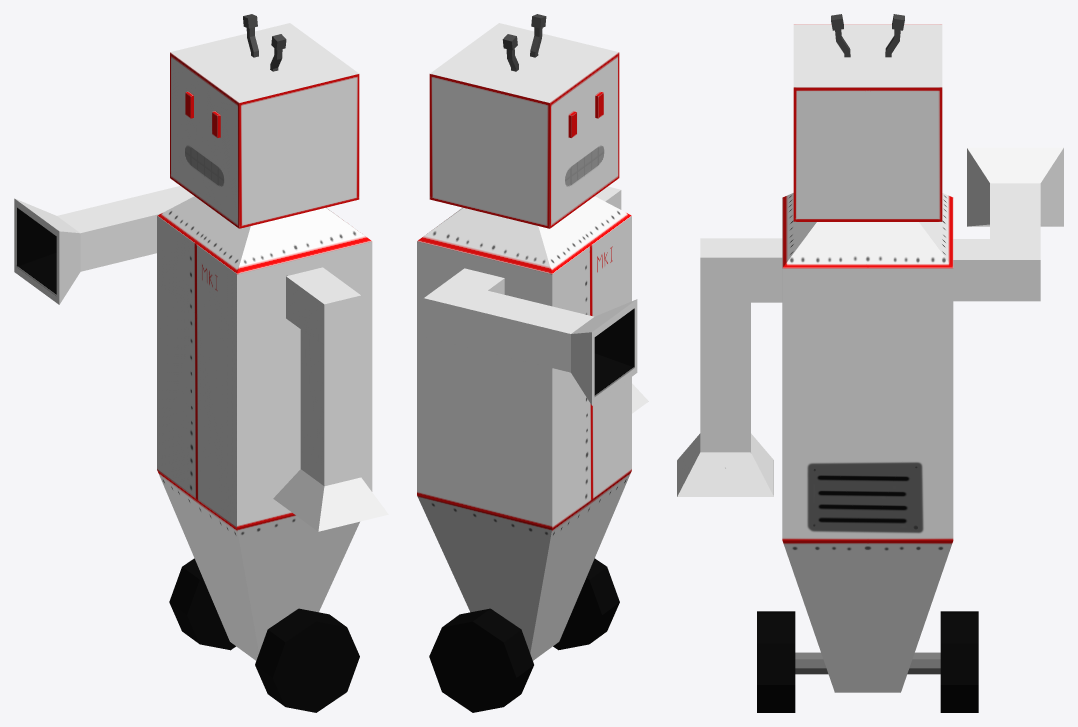
Rendered from robot.glb.
3 renders of one model, left to right at view 1: azimuth 30°, elevation 25°; view 2: azimuth 150°, elevation 25°; view 3: azimuth 270°, elevation 25°, orthographic. The views are drawn at different scales.
Parts seen in each view (by area): view 1: Robot; view 2: Robot; view 3: Robot.
Boxes of the visible parts, x1=… form: Robot: x1=14, y1=14, x2=388, y2=712; Robot: x1=417, y1=14, x2=648, y2=712; Robot: x1=677, y1=14, x2=1063, y2=712.
Bounding box in the file's own units: 24.19 × 66.19 × 33.39.
1 material, 1 textured.
